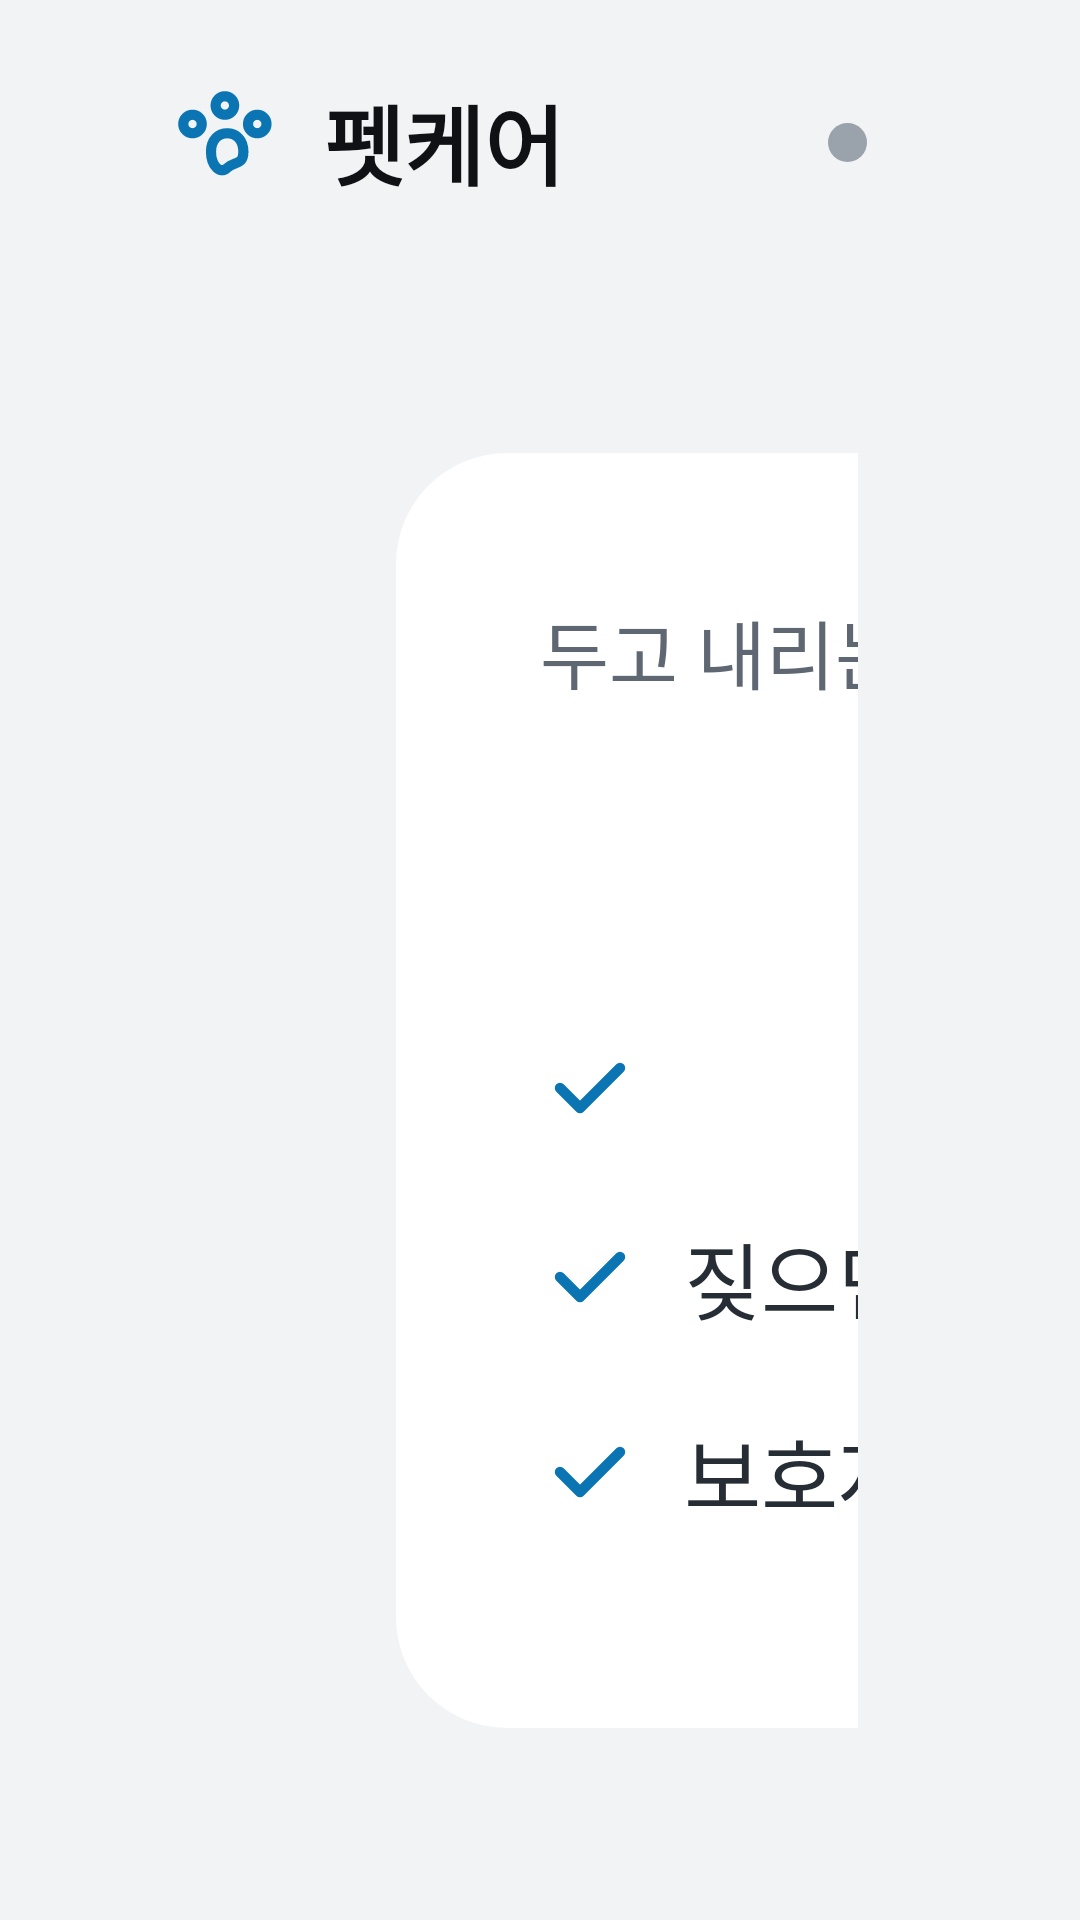

Locate icon controls on the screen. Image size 1080*1920, boxes as detection(x1, y1, x2, y2).
paw: detection(178, 91, 272, 176)
